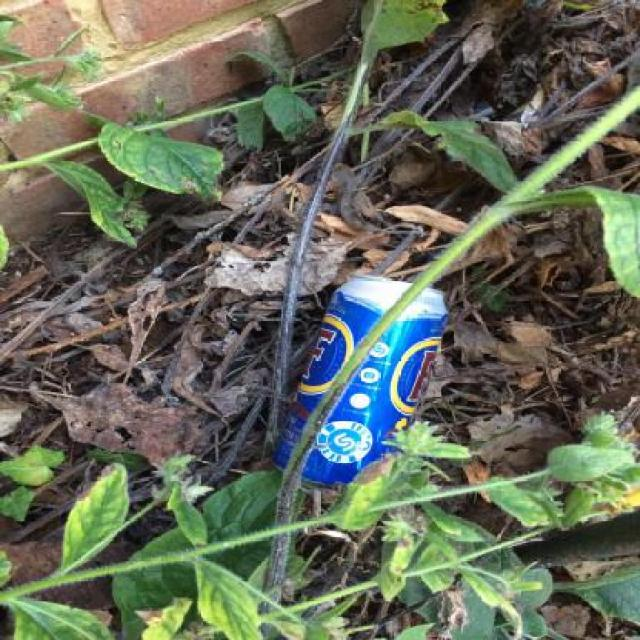Garbage: (271, 273, 448, 488)
